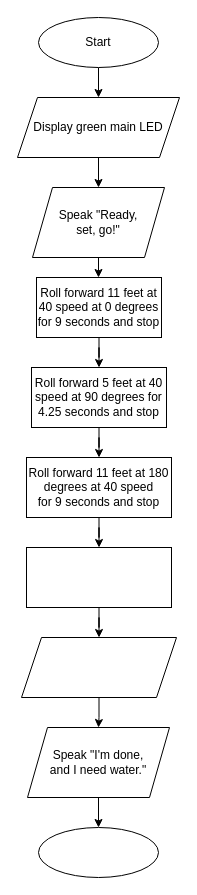
Image size: 197x895. Some labels were removed from this diagram. Each missing label, with the box of its shape:
Display red main LED: (20, 636, 176, 698)
End: (38, 826, 158, 878)
Roll forward 5 feet at 270 degrees at 40 speed for 4.25 seconds and stop: (26, 546, 172, 608)
